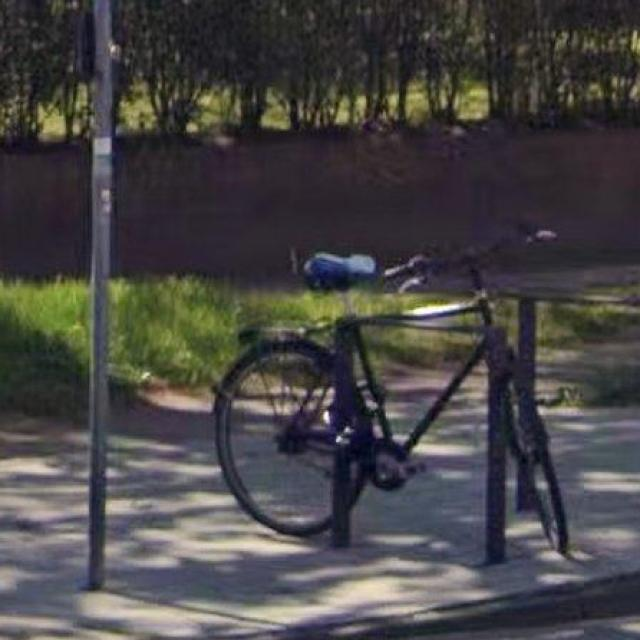bicycle: (217, 297, 495, 537), (506, 343, 571, 556)
